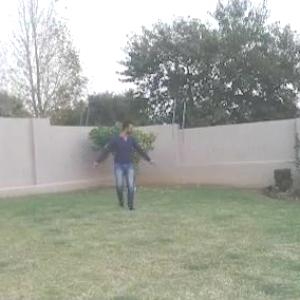land: (80, 99, 158, 226)
